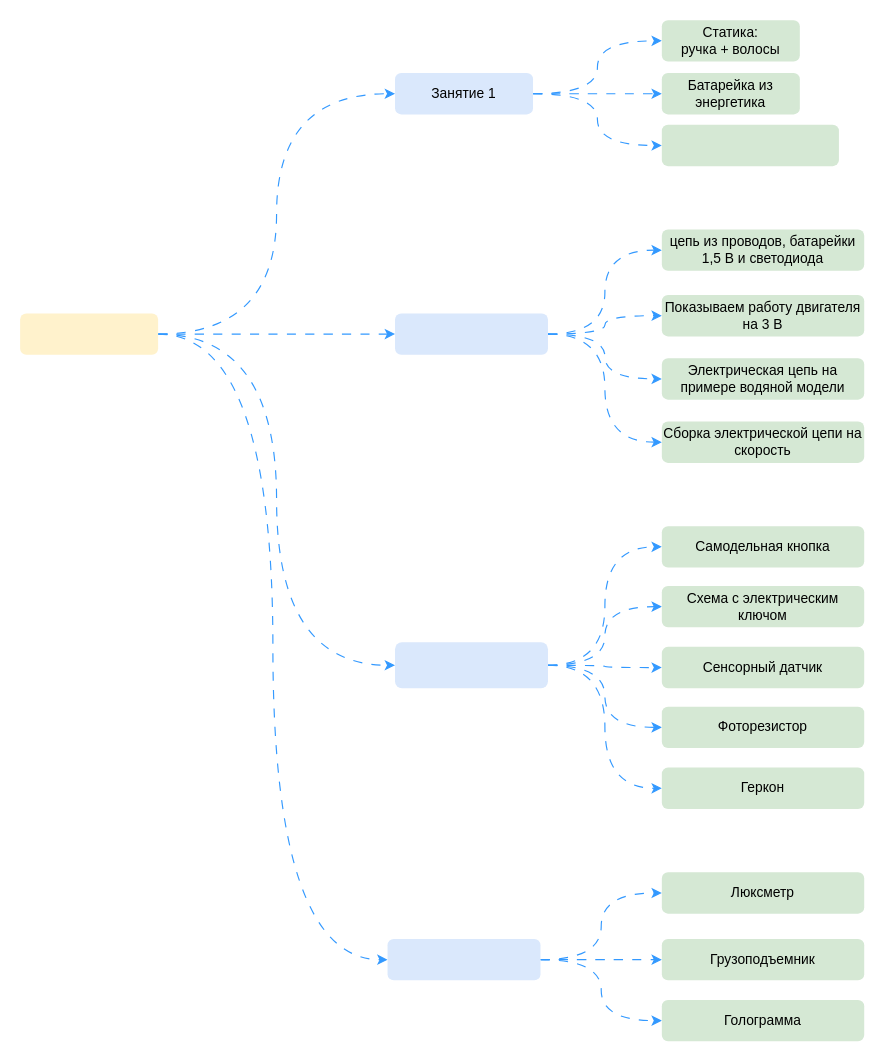
This 883x1060 diagram has some shape labels left out. The box of each missing label's shape, as (x1, y1, x2, y2) in pixels:
Батарейка или аккумулятор, что лучше?: (661, 124, 838, 166)
Занятие 2: (394, 313, 547, 354)
Занятие 3: (394, 642, 547, 688)
Занятие 4: (387, 938, 540, 980)
ЭЛЕКТРИЧЕСТВО: (20, 313, 158, 354)
